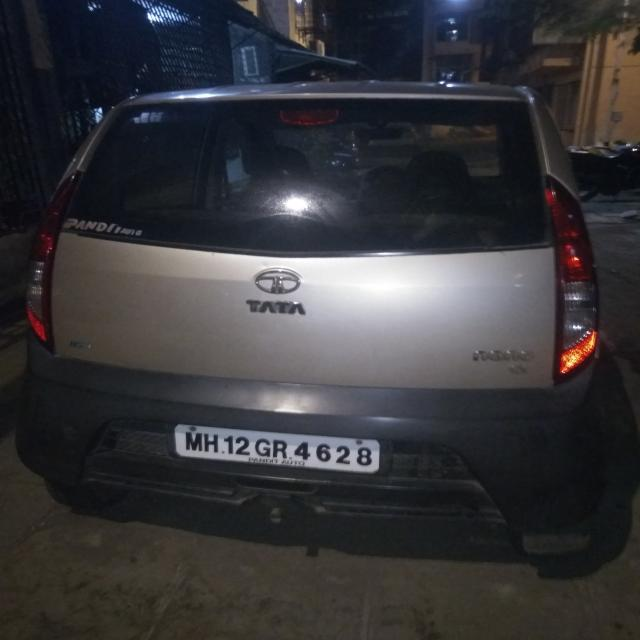Number-Plate: (174, 420, 388, 470)
